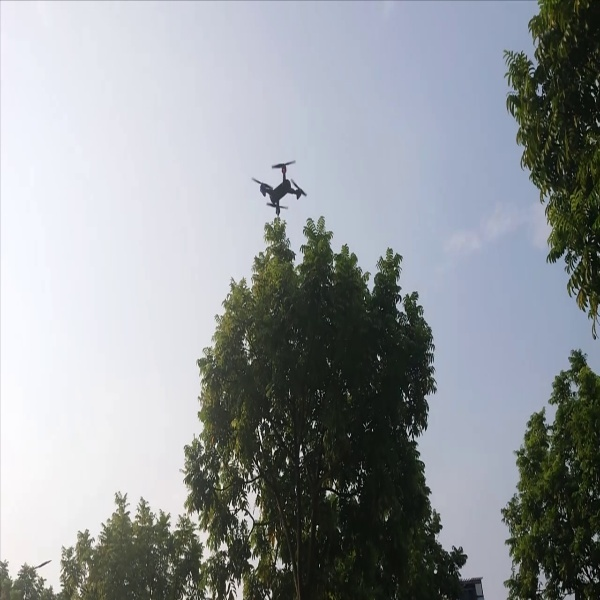drone: (244, 158, 310, 216)
